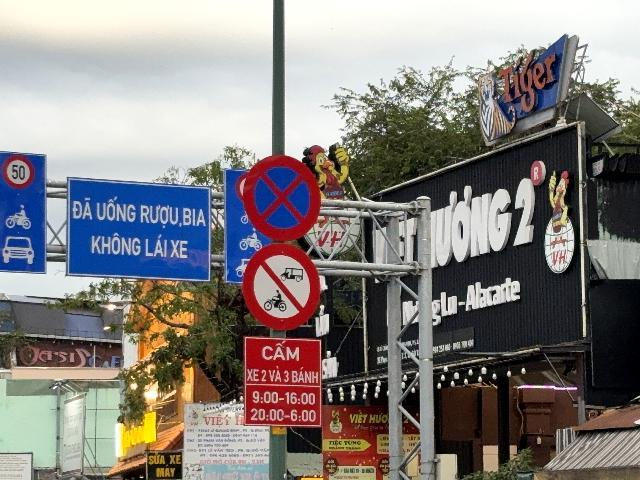cam-dung-va-do-xe: (244, 153, 321, 242)
cam-xe-2-banh-3-banh: (241, 241, 320, 331)
toc-do-toi-da-cho-phep: (2, 153, 35, 189)
